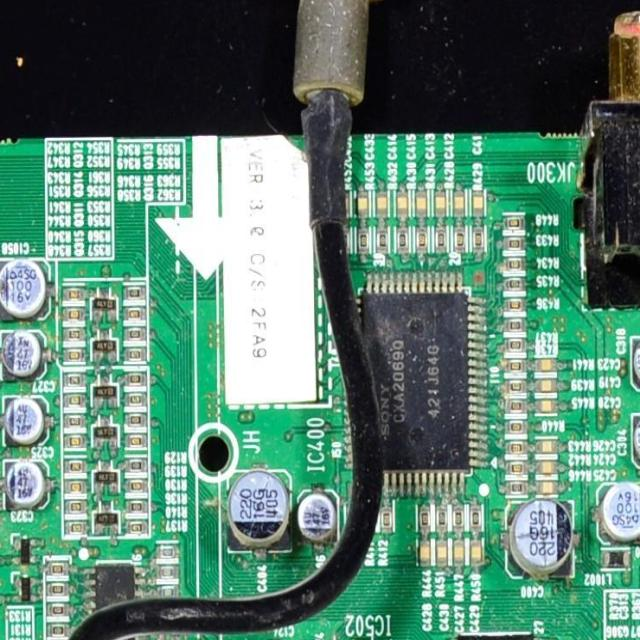IC: (360, 276, 488, 486), (452, 636, 542, 640)
capacitor: (223, 475, 296, 552), (292, 468, 346, 556), (0, 329, 47, 409), (0, 388, 54, 450), (0, 253, 46, 322), (0, 452, 51, 510), (396, 187, 410, 216), (435, 538, 449, 566), (536, 459, 559, 476), (454, 538, 466, 570), (450, 192, 466, 215), (535, 398, 558, 414), (357, 188, 369, 218), (470, 536, 482, 566), (535, 377, 557, 393), (538, 481, 560, 496), (374, 189, 386, 216), (536, 356, 556, 372), (435, 186, 445, 216), (537, 438, 558, 452), (420, 542, 432, 566), (473, 192, 485, 214), (417, 189, 427, 215)
resistor: (395, 226, 409, 254), (433, 505, 447, 533), (65, 432, 88, 448), (355, 229, 369, 255), (469, 503, 482, 530), (125, 456, 148, 471), (127, 369, 147, 386), (452, 505, 464, 533), (126, 345, 148, 360), (419, 505, 430, 535), (123, 305, 146, 319), (63, 307, 86, 321), (506, 317, 526, 333), (507, 398, 527, 414), (507, 419, 527, 435), (48, 622, 68, 638), (505, 439, 526, 454), (472, 230, 485, 254), (63, 285, 85, 299), (124, 326, 146, 340), (65, 458, 87, 472), (46, 582, 68, 596), (375, 229, 388, 252), (125, 284, 146, 298), (506, 337, 527, 351), (160, 544, 181, 558), (68, 519, 86, 535), (453, 227, 464, 253), (126, 413, 148, 426), (156, 563, 178, 576), (48, 602, 70, 615), (128, 497, 147, 512), (506, 299, 526, 313), (506, 358, 526, 372), (506, 380, 526, 394), (126, 432, 146, 446), (508, 481, 528, 495), (46, 561, 66, 575), (64, 327, 87, 339), (65, 500, 88, 512), (503, 216, 524, 229), (414, 230, 427, 251), (128, 478, 149, 491), (158, 585, 179, 598), (65, 372, 83, 387), (506, 277, 525, 291), (508, 462, 527, 476), (435, 226, 446, 250), (65, 414, 87, 426), (504, 237, 524, 250), (63, 393, 83, 406), (382, 508, 392, 534), (504, 258, 525, 270), (67, 479, 85, 493), (127, 394, 146, 407), (127, 520, 146, 532), (64, 350, 85, 360)
transistor: (88, 327, 120, 361), (92, 370, 120, 408), (95, 502, 123, 539), (91, 287, 119, 323), (90, 416, 118, 449), (92, 462, 120, 494), (15, 577, 42, 602), (14, 540, 38, 564)
